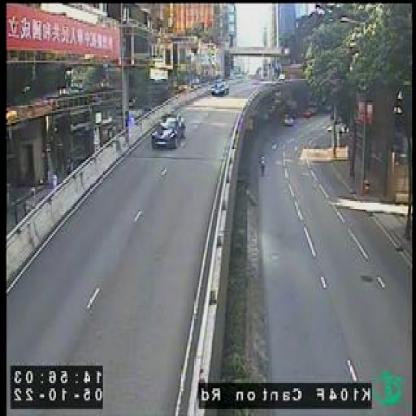Car: (151, 113, 186, 149)
